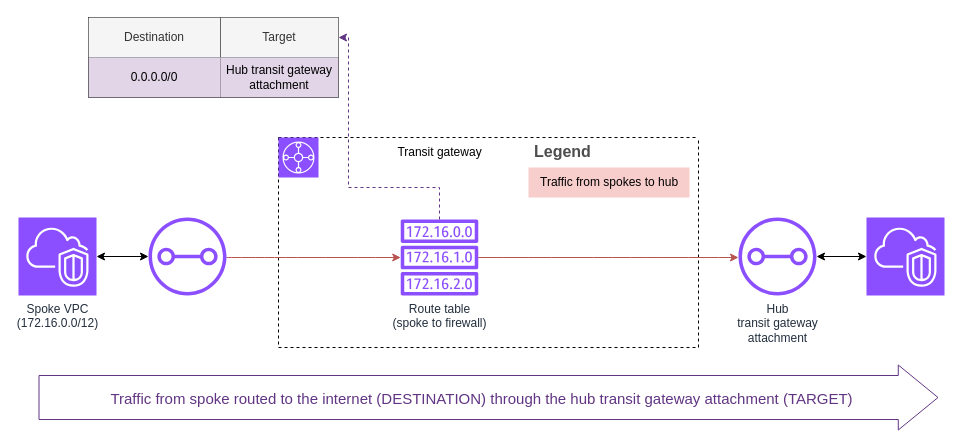
The diagram is 962 pixels wide and 448 high, and some of its shapes have lost their labels. Each missing label, with the centre of its shape:
Hub VPC: pixel 905 256
Spoke transit gateway attachment: pixel 187 256
